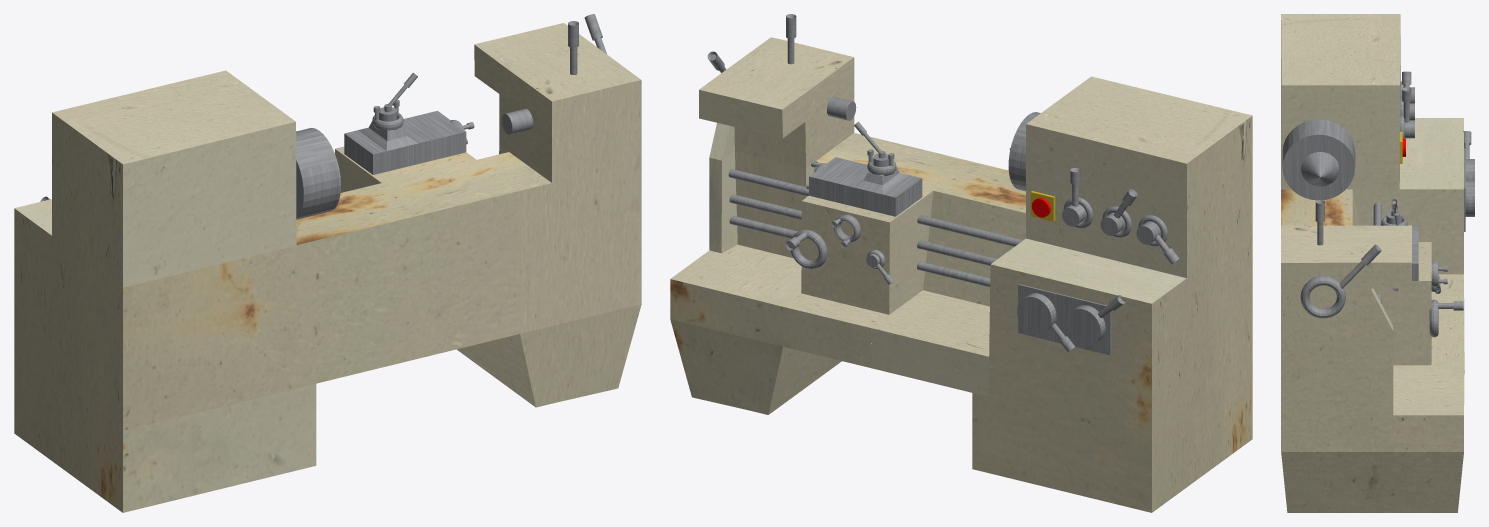
File: Bubut.fbx
3 renders of one model, left to right at view 1: azimuth 30°, elevation 25°; view 2: azimuth 150°, elevation 25°; view 3: azimuth 270°, elevation 25°, orthographic. The views are drawn at different scales.
Visible parts, largest first — view 1: Bubut_mahen; view 2: Bubut_mahen; view 3: Bubut_mahen.
Boxes of the visible parts, <box> form: Bubut_mahen: <box>14,14,641,512</box>; Bubut_mahen: <box>670,14,1252,512</box>; Bubut_mahen: <box>1281,14,1474,512</box>.
Bounding box in the file's own units: 260 × 168 × 97.92.
